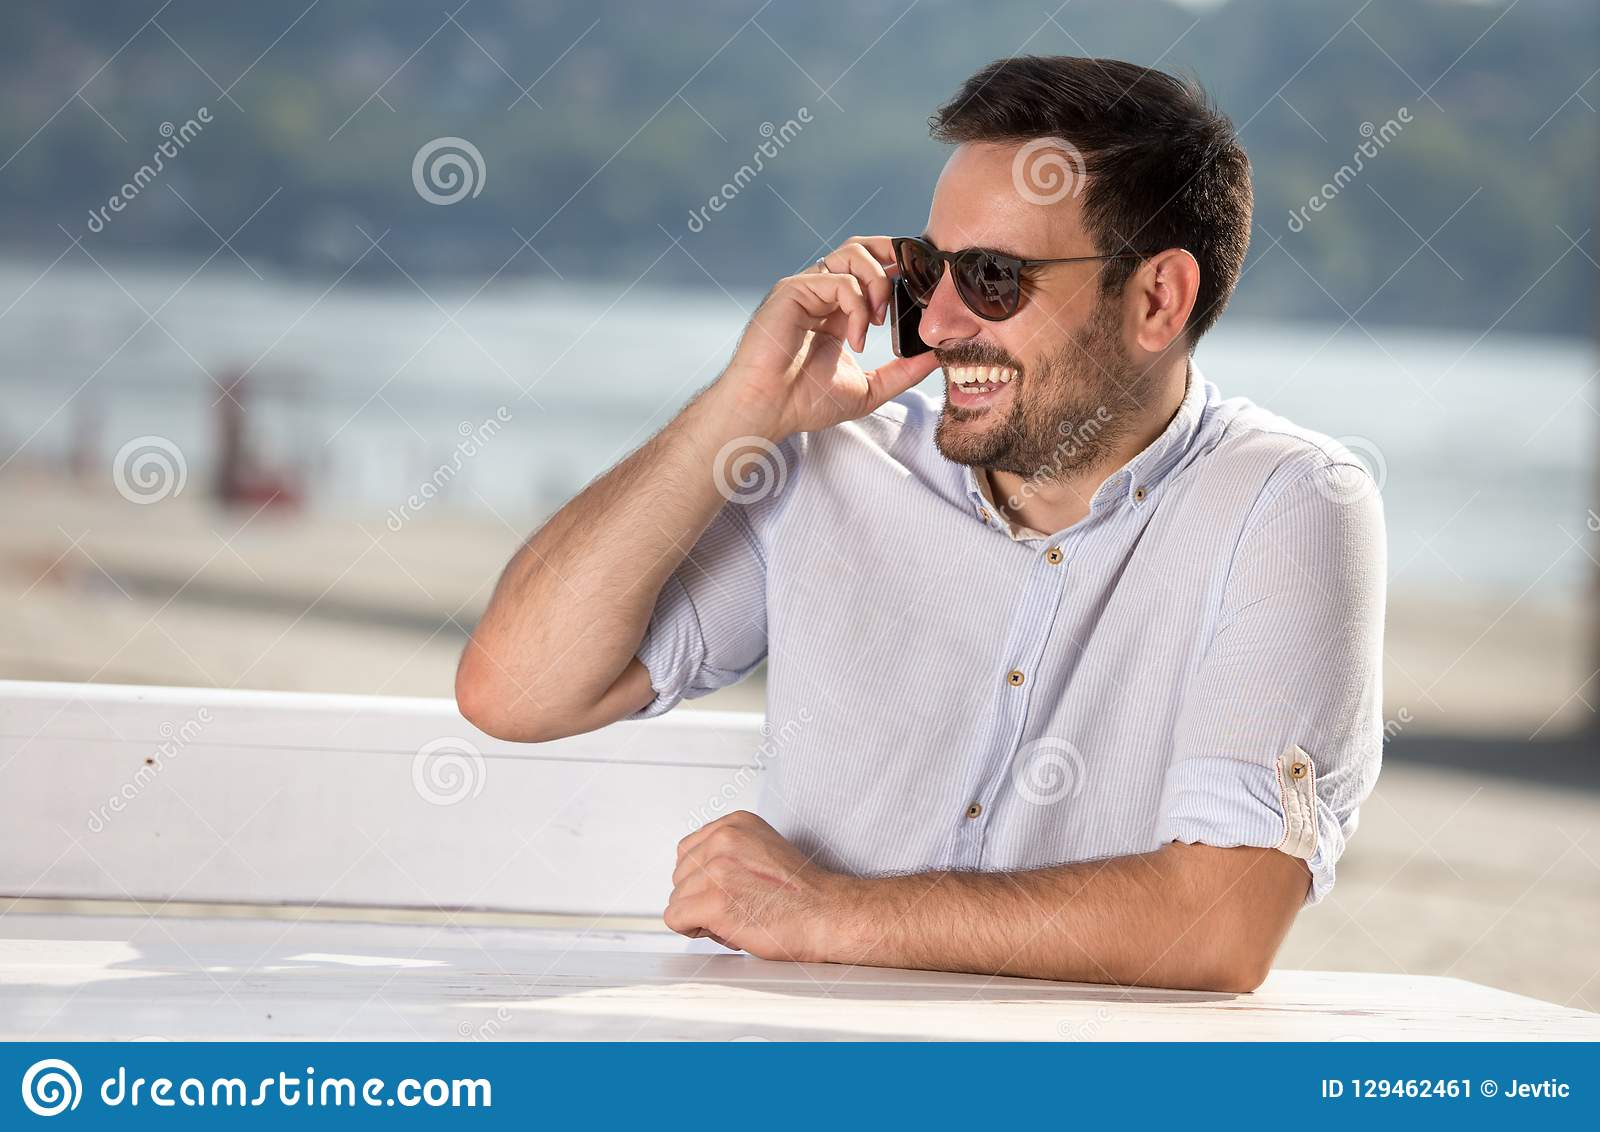phone: (888, 266, 934, 361)
talk: (731, 216, 1058, 463)
